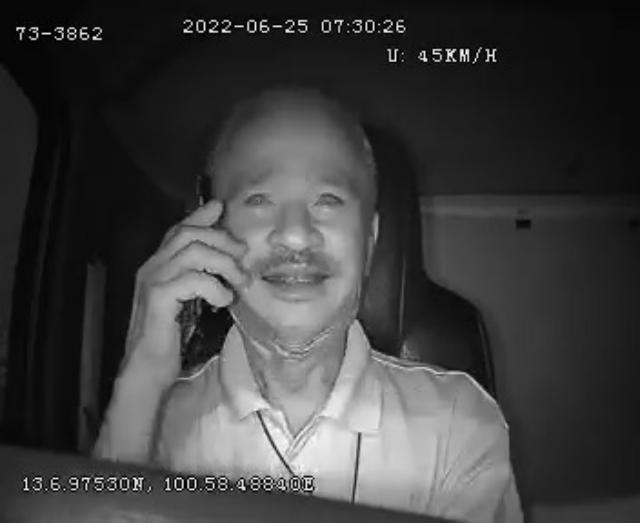PhoneUse: (163, 172, 223, 370)
SafeDriving: (303, 174, 356, 220), (234, 179, 281, 215)
